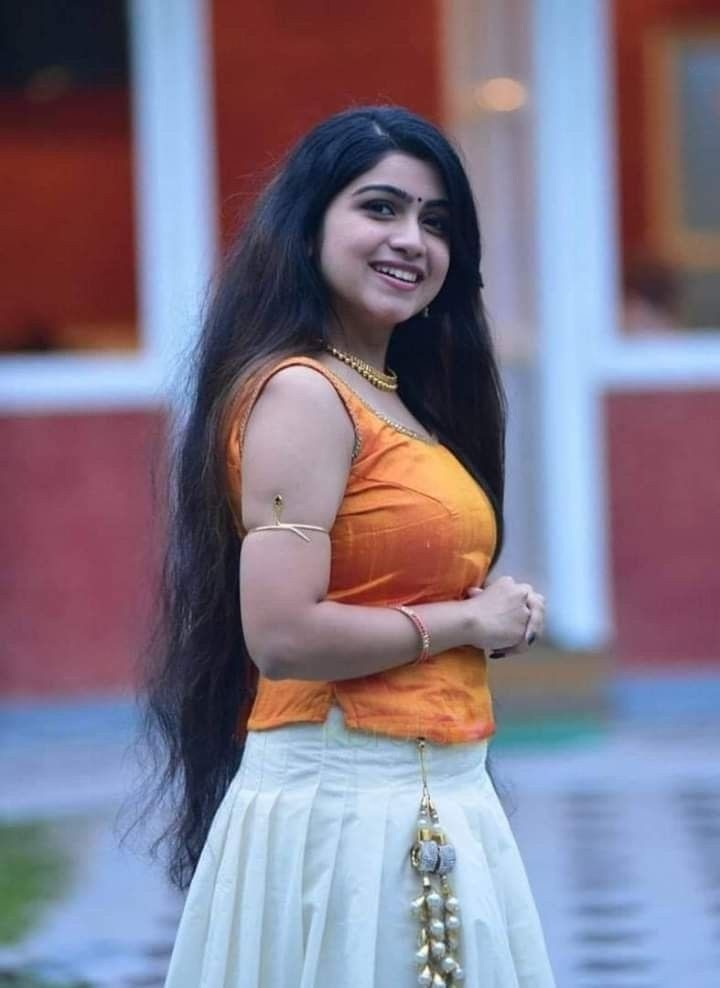face_no_mask: (293, 108, 460, 323)
